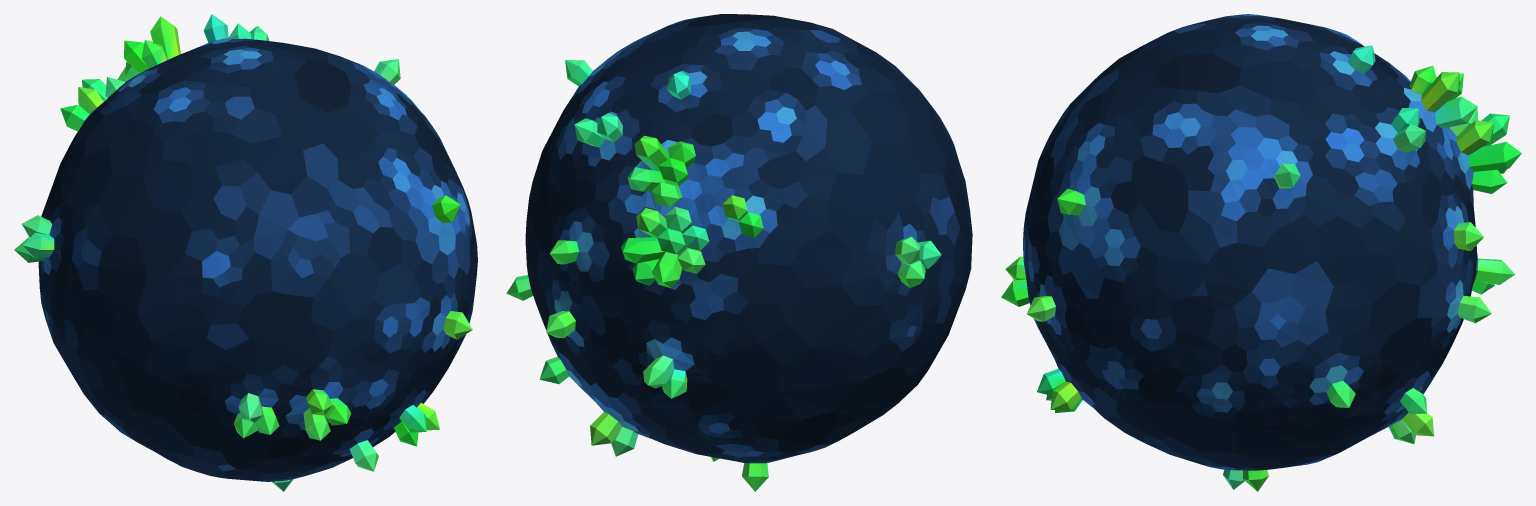
Rendered from Crystal_planet_5.fbx.
3 renders of one model, left to right at view 1: azimuth 30°, elevation 25°; view 2: azimuth 150°, elevation 25°; view 3: azimuth 270°, elevation 25°, orthographic. The views are drawn at different scales.
Parts seen in each view (by area): view 1: file6; view 2: file6; view 3: file6.
Boxes of the visible parts, x1,y1,x2,y2 form: file6: (14,14,477,491); file6: (506,14,972,491); file6: (1001,14,1521,491).
Bounding box in the file's own units: 2.11 × 2.16 × 2.29.
